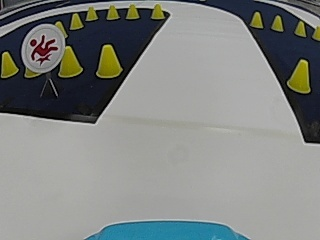cone: (96, 43, 122, 78), (286, 56, 309, 94), (58, 46, 83, 79), (0, 51, 16, 78), (69, 12, 83, 30), (249, 11, 263, 28), (126, 3, 139, 20), (106, 3, 119, 20), (54, 20, 67, 37), (151, 3, 164, 19), (85, 5, 98, 21), (271, 14, 283, 31), (294, 20, 306, 37), (313, 24, 319, 41)
tumble: (26, 29, 61, 65)
